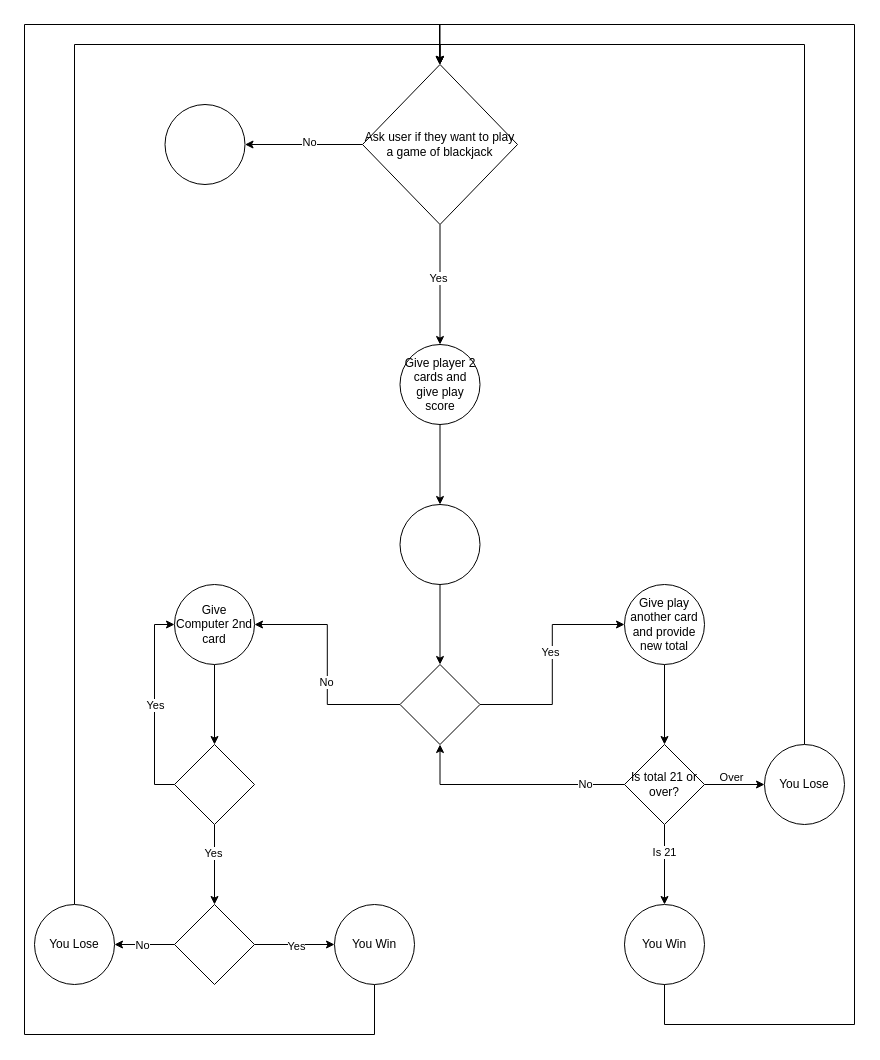
This 880x1060 diagram has some shape labels left out. The shapes that lost their labels are listed below. From the top down, each one's centre as x and y in pixels, then its label:
At pixel 204 144: "End code".
At pixel 439 544: "Give player the computer first card".
At pixel 439 704: "Ask player if they want another card".
At pixel 214 784: "Is the computer under the players count?".
At pixel 214 944: "Is the computer over 21?".
